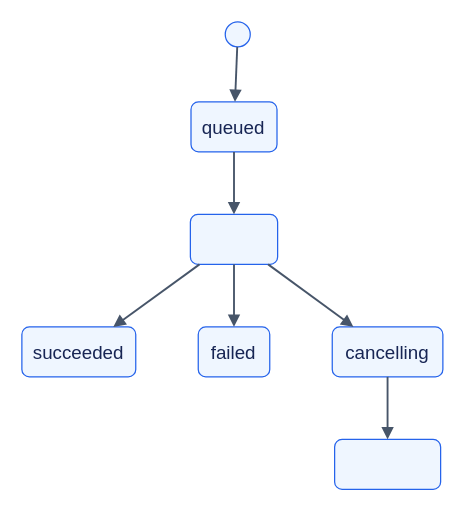
The diagram is 465 pixels wide and 511 high, and some of its shapes have lost their labels. The shapes that lost their labels are listed below. From the top down, each one's centre as x and y in pixels, then its label:
[233,238]: running
[387,463]: cancelled
